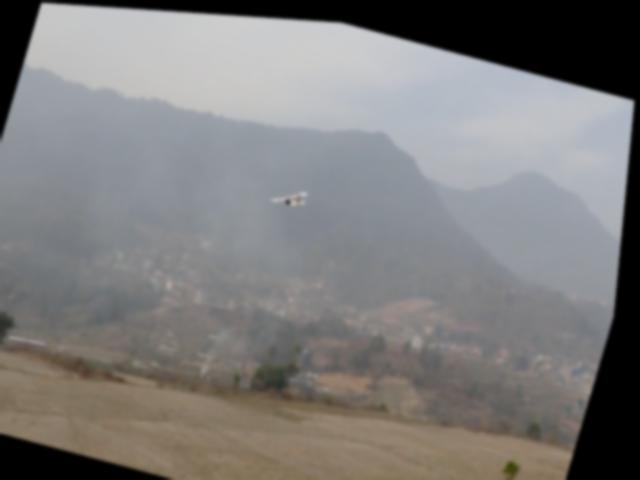plane: (272, 178, 312, 207)
